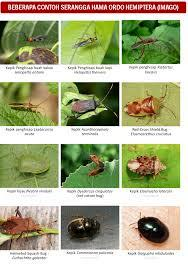Helopeltis-insect: (8, 98, 44, 115), (73, 33, 101, 53), (19, 27, 49, 45), (131, 35, 161, 51)
